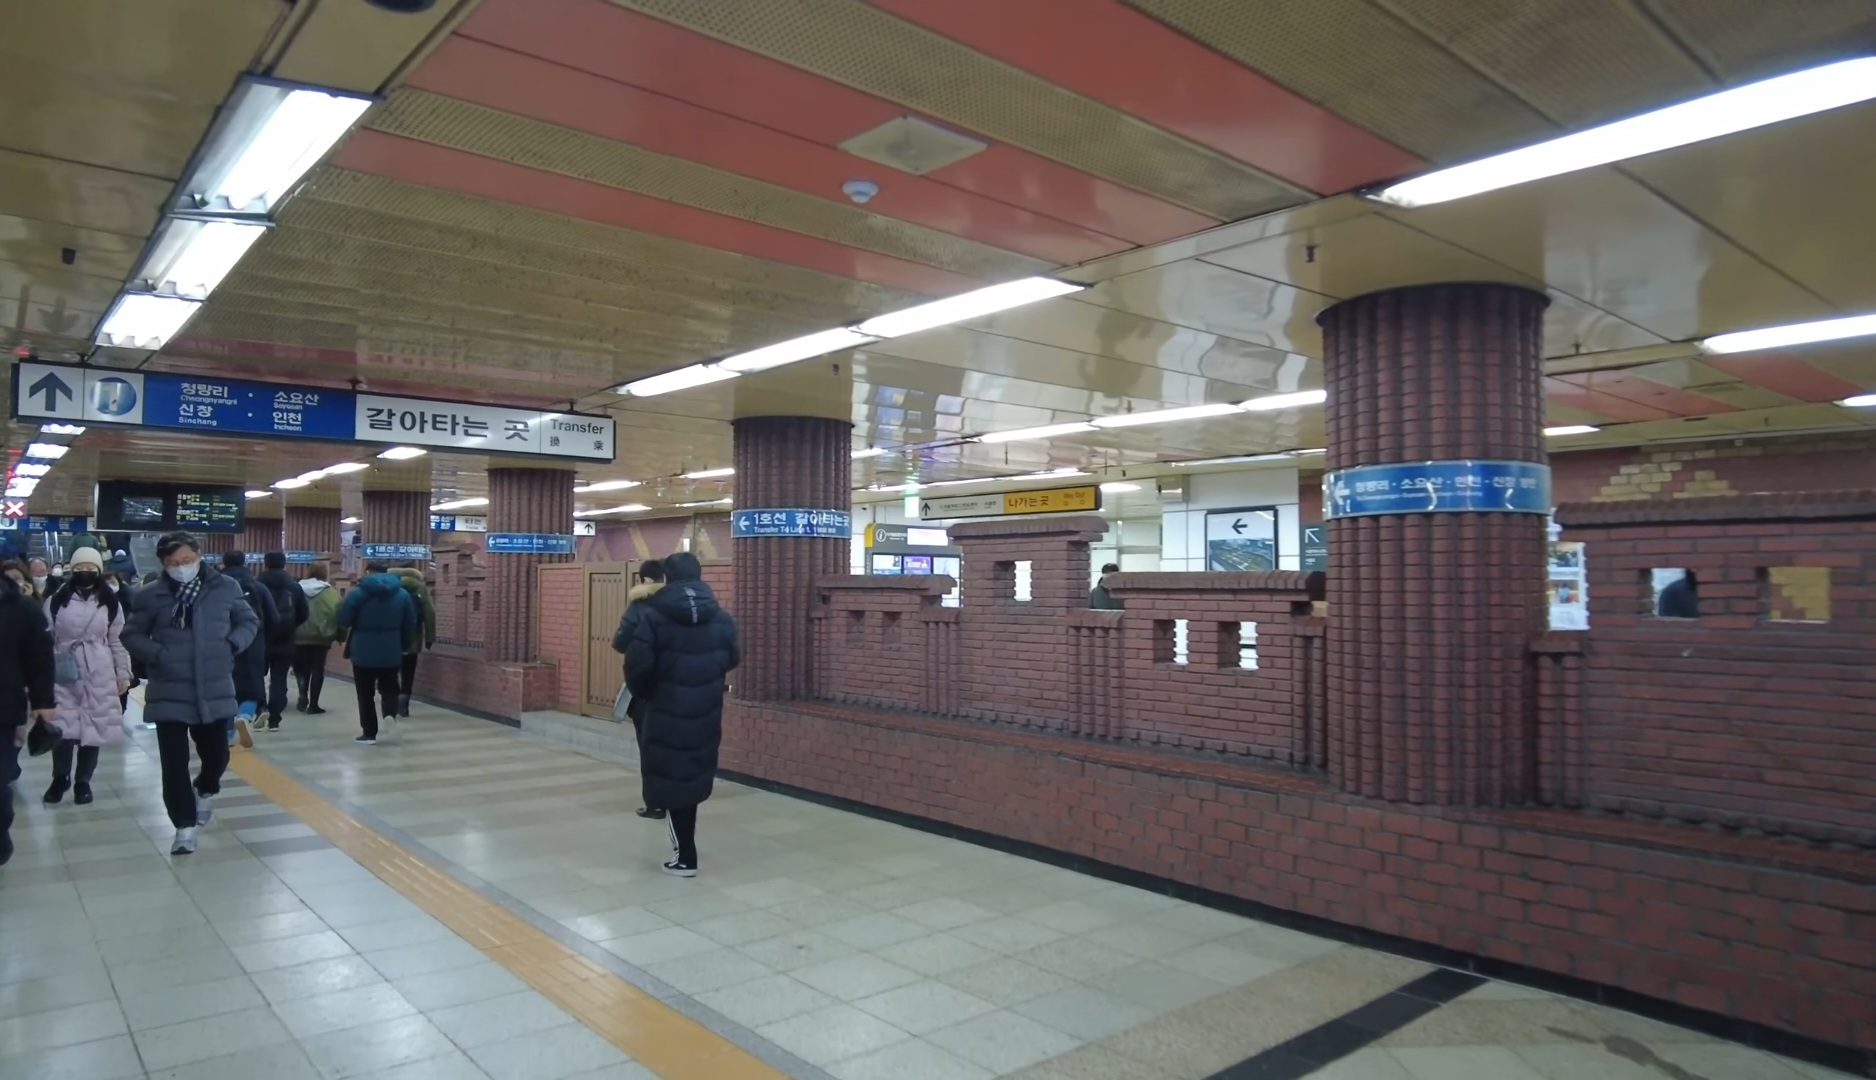signBoard: (19, 345, 620, 469)
